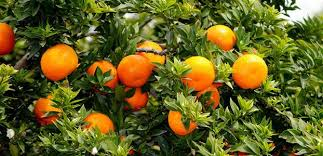orange: (38, 43, 80, 82), (235, 53, 270, 88), (179, 56, 214, 90), (119, 54, 152, 89), (203, 22, 239, 54), (33, 96, 68, 124), (168, 108, 197, 138)
